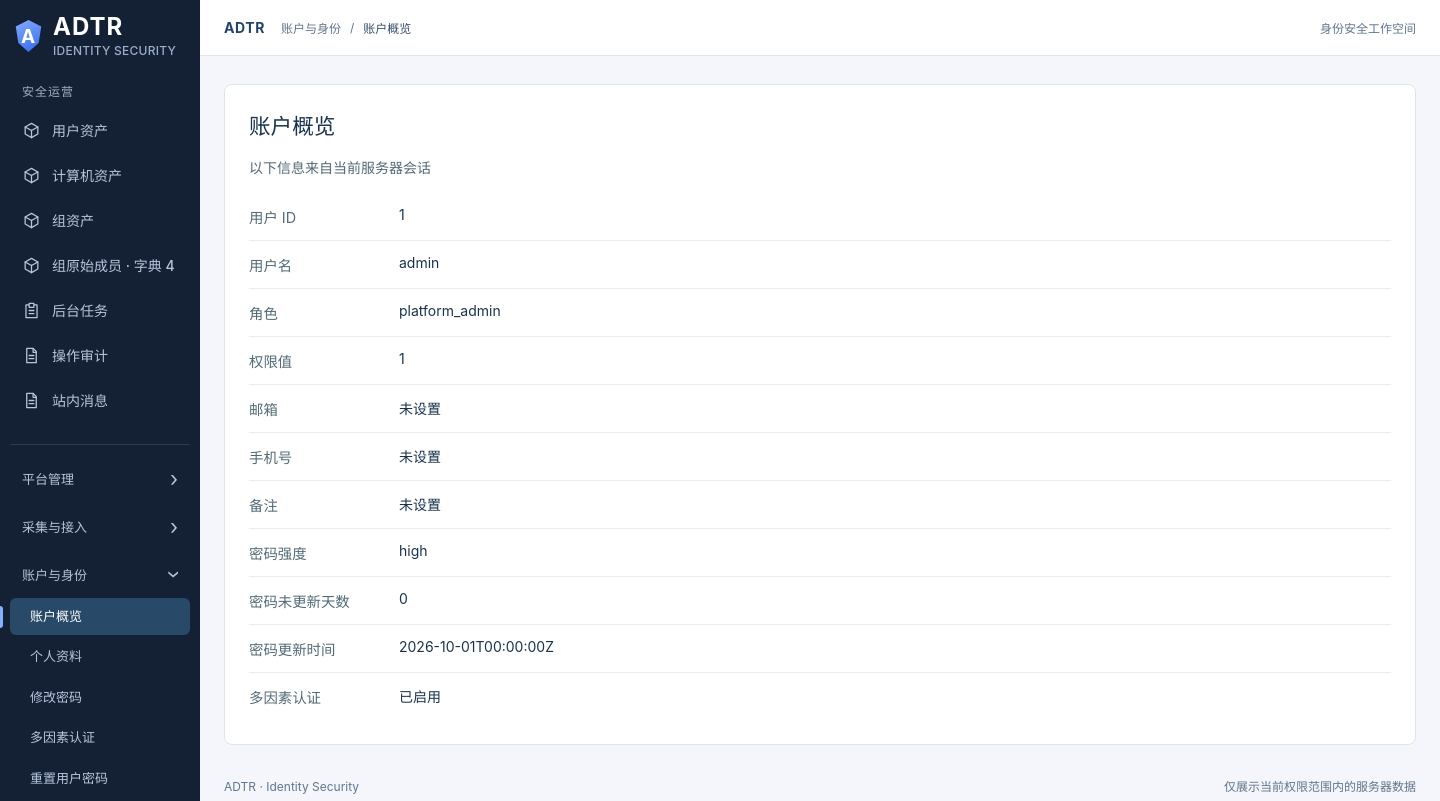
server capabilities and session scope › only loads resource APIs after explicit navigation and admins have no automatic domains
The image size is (1440, 801).
Expected: the heading "账户概览" is shown, [249, 113, 335, 139]
Click the heading "平台管理 ›" at (48, 479), box [22, 466, 178, 491]
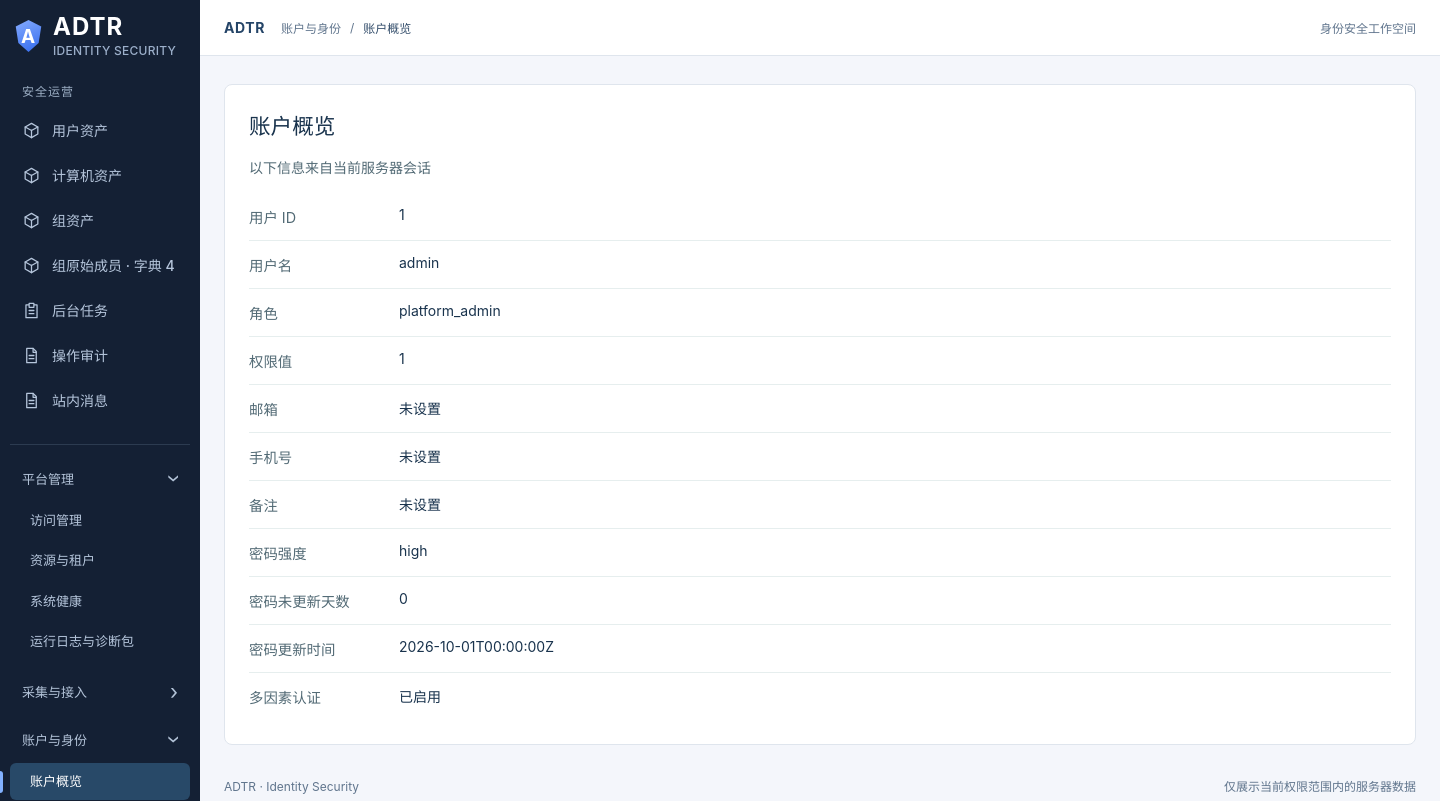
Expected: the button "资源与租户" is shown
Click the button "资源与租户" at (100, 561), box [10, 542, 190, 580]
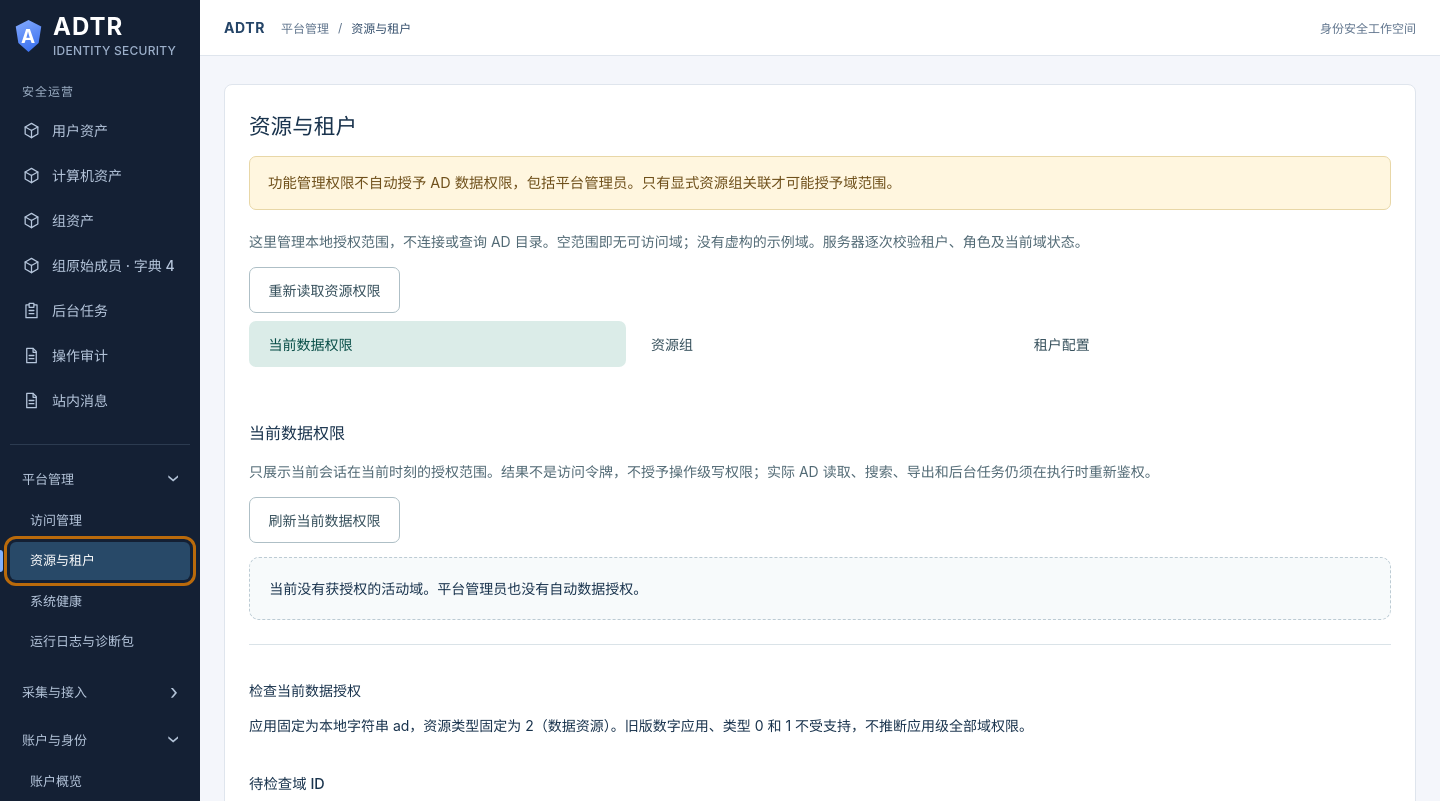
Expected: the text "当前没有获授权的活动域。平台管理员也没有自动数据授权。" is shown, [249, 557, 1391, 620]
